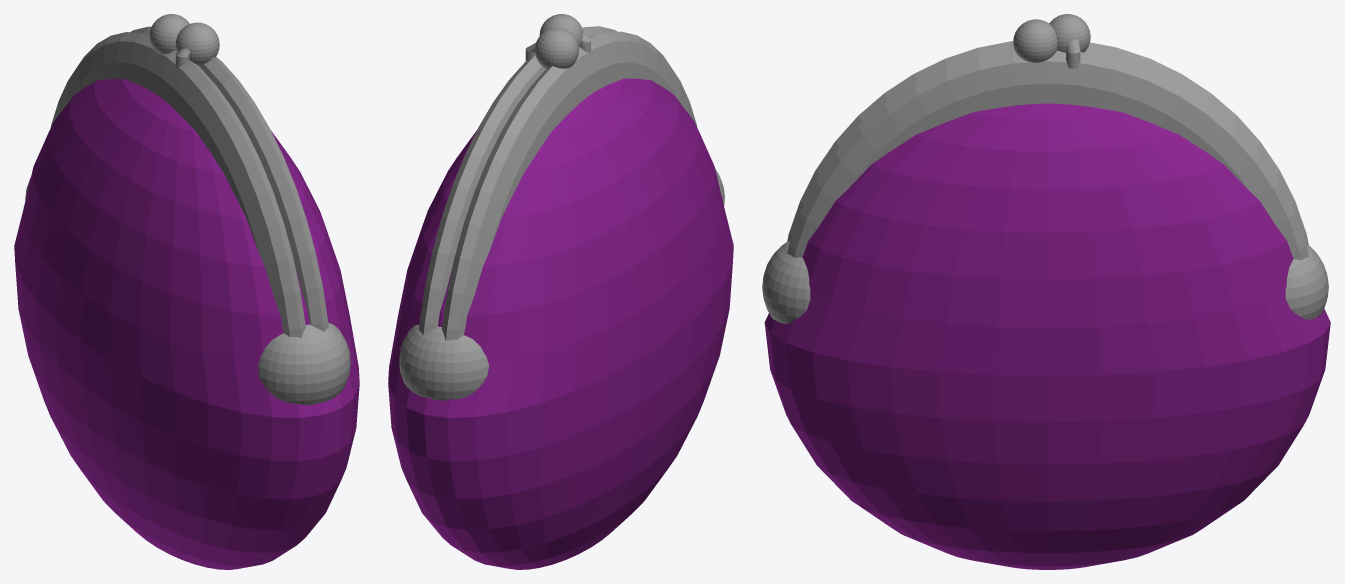
Rendered from gamaguchi.fbx.
3 views of the same model, side by side, from view 1: azimuth 30°, elevation 25°; view 2: azimuth 150°, elevation 25°; view 3: azimuth 270°, elevation 25° (orthographic). The views are drawn at different scales.
Parts seen in each view (by area): view 1: 球, 円柱; view 2: 球, 円柱; view 3: 球, 円柱.
Boxes of the visible parts, x1,y1,x2,y2 form: 球: [14, 79, 359, 569]; 円柱: [25, 14, 350, 404]; 球: [388, 78, 733, 569]; 円柱: [399, 14, 724, 400]; 球: [764, 103, 1330, 569]; 円柱: [762, 14, 1328, 323].
Size of the model in its own units: 95.34 by 226 by 213.
